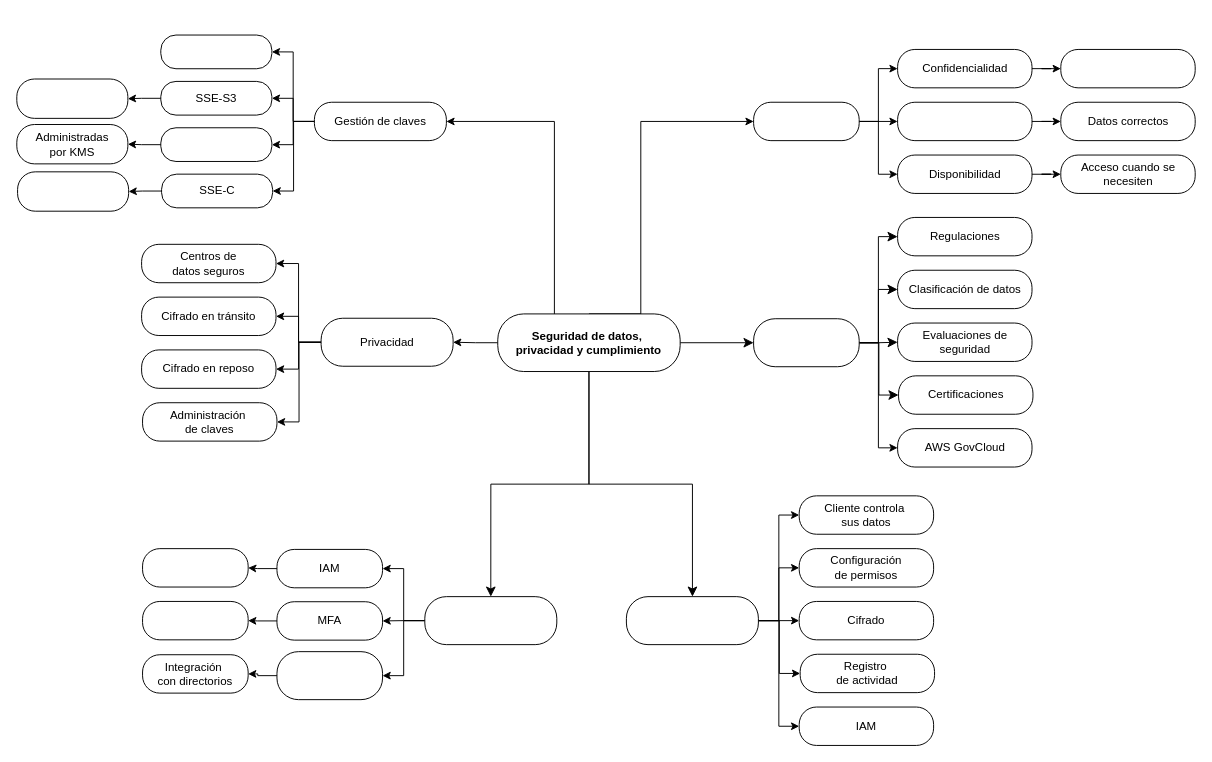
The diagram is 1212 pixels wide and 762 high, and some of its shapes have lost their labels. Here are the shapes that lost their labels. From the top down, the box of each, then its label:
(160, 34, 272, 69): AWS KMS
(1060, 48, 1195, 88): Acceso autorizado
(16, 78, 128, 118): Administradas por S3
(753, 101, 859, 141): Seguridad
(897, 101, 1032, 141): Integridad
(160, 127, 272, 161): SSE-KMS
(17, 171, 129, 211): Administrada s por el cliente
(753, 318, 859, 367): Cumplimiento
(142, 548, 248, 587): Usuarios y permisos
(142, 600, 248, 640): Autentificación adicional
(424, 596, 557, 645): Control de acceso
(625, 596, 758, 645): Contol de datos
(276, 651, 383, 700): Directory Service
